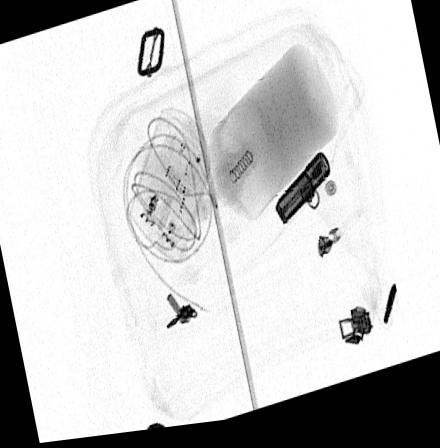Lighter: (274, 159, 331, 230)
